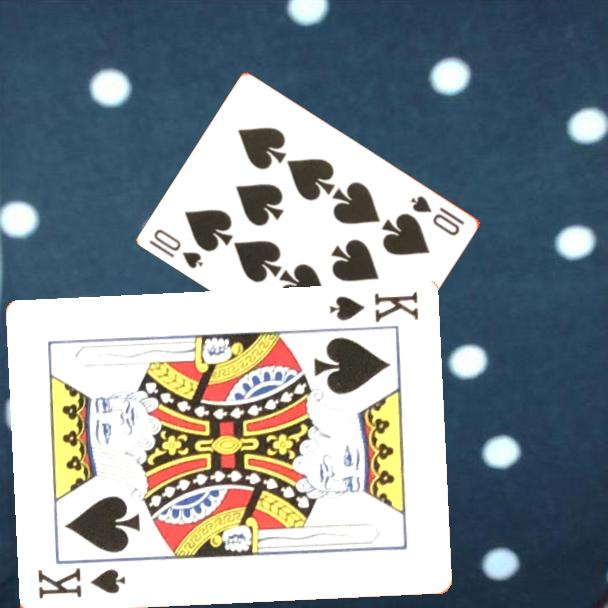s10: (407, 192, 468, 239), (146, 225, 207, 272)
s13: (325, 288, 421, 326), (33, 565, 128, 602)
